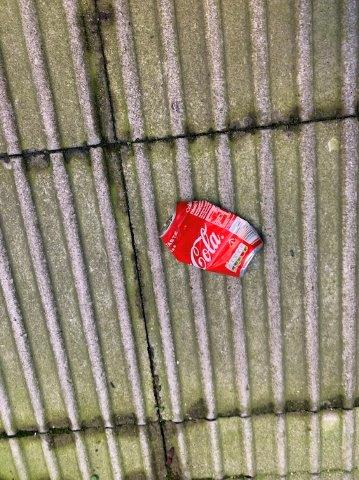kaleng: (162, 202, 261, 277)
